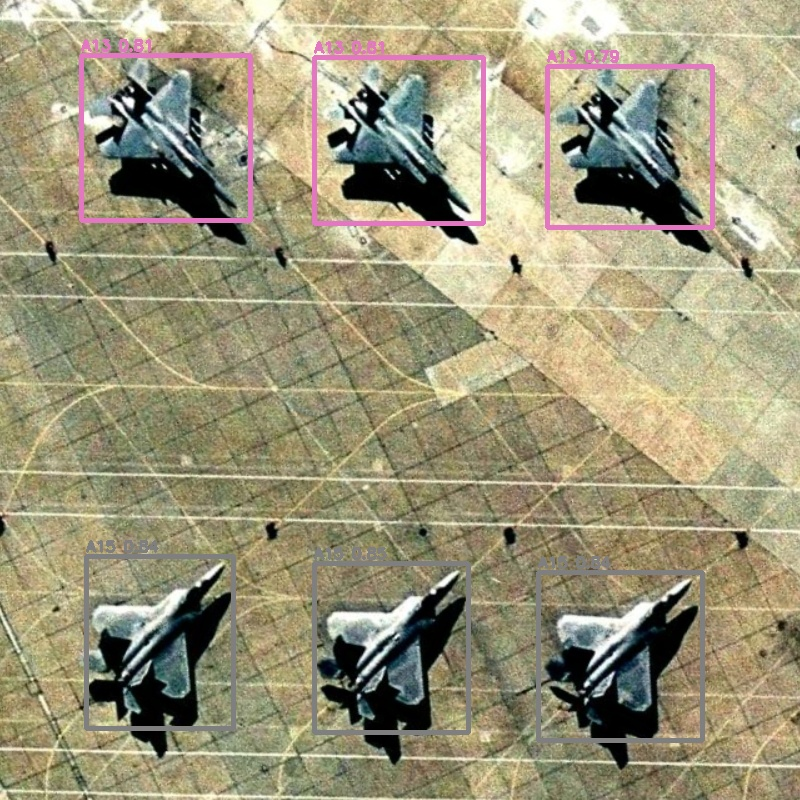A13: (314, 57, 483, 223), (81, 55, 250, 220), (547, 66, 712, 227)
A15: (538, 572, 702, 740), (314, 563, 468, 732), (86, 556, 233, 728)
